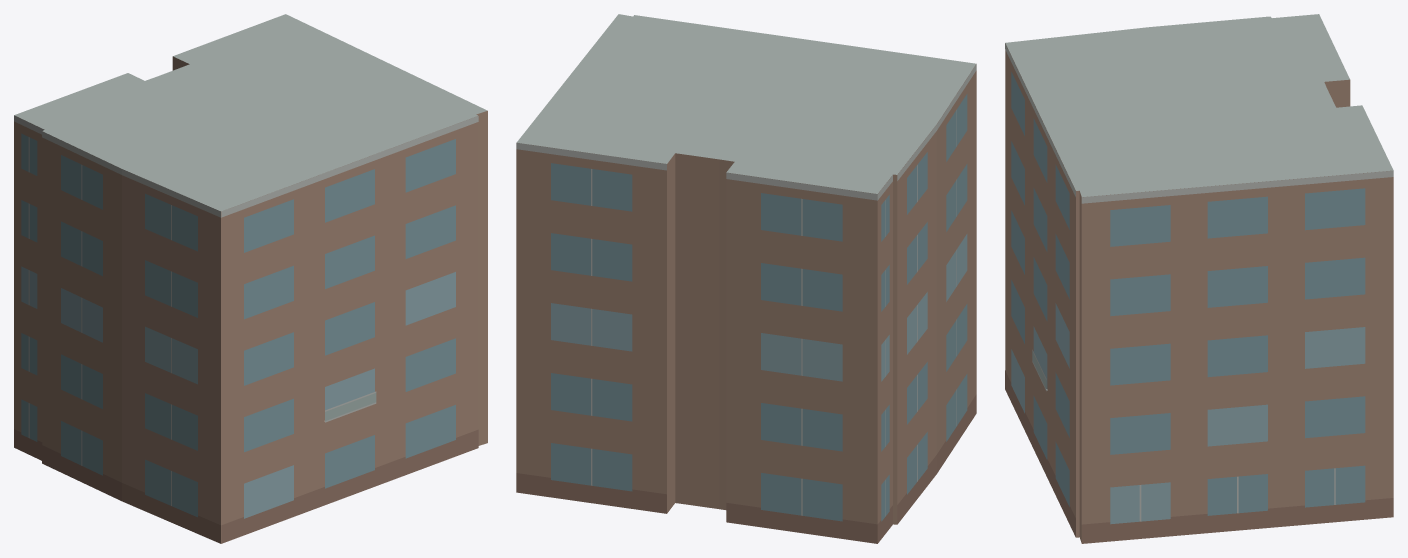
Rendered from survey-upis-32989048.glb.
The picture shows the model from 3 angles, left to right: view 1: azimuth 30°, elevation 25°; view 2: azimuth 150°, elevation 25°; view 3: azimuth 270°, elevation 25°; orthographic projection. The views are drawn at different scales.
Visible parts, largest first — view 1: survey-upis-32989048.tmp; view 2: survey-upis-32989048.tmp; view 3: survey-upis-32989048.tmp.
Boxes of the visible parts, bbox=[...] form: survey-upis-32989048.tmp: bbox=[14, 14, 487, 543]; survey-upis-32989048.tmp: bbox=[516, 14, 976, 543]; survey-upis-32989048.tmp: bbox=[1005, 14, 1393, 543].
Bounding box in the file's own units: 14.8 × 13.05 × 13.26.
